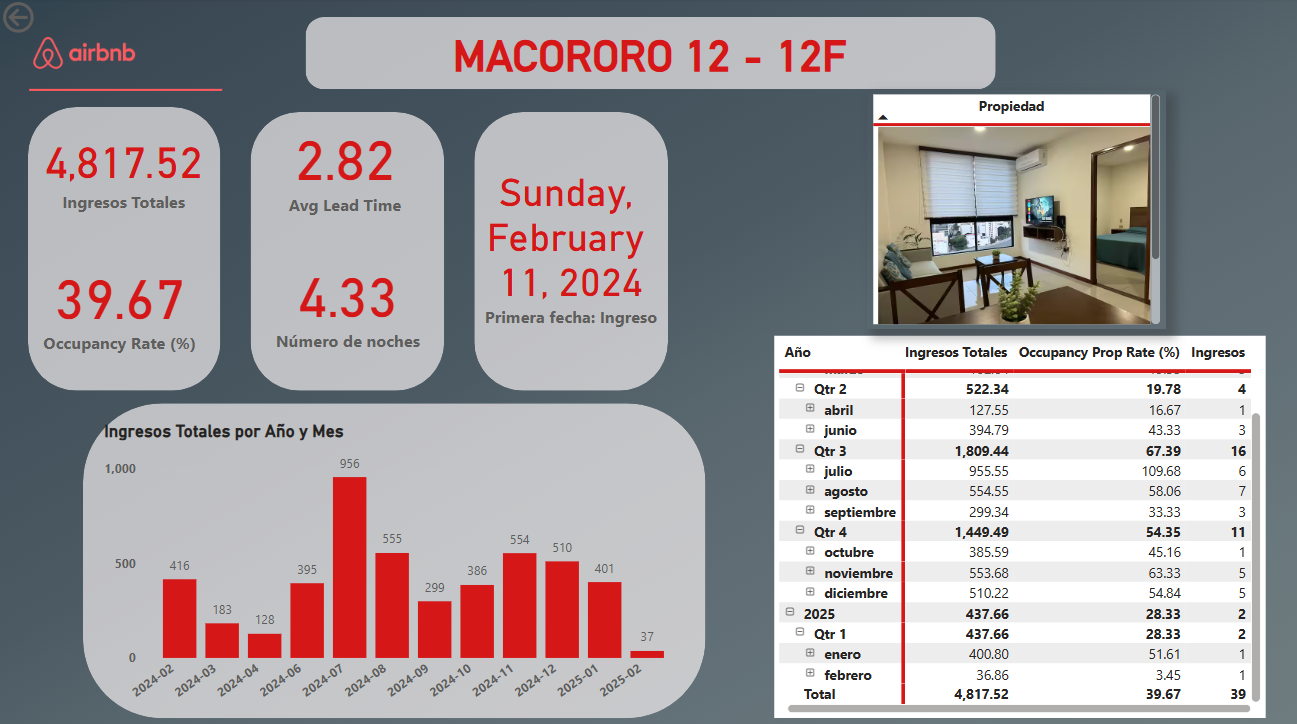

The dashboard page shown, as its layout file describes it:
{"tool":"powerbi","page":{"name":"Detalle por Propiedad","canvas":[1280,720],"ordinal":2},"visuals":[{"type":"image","box":[10,5,150,100],"z":0},{"type":"shape","box":[29.4,108,189,278.5],"z":1000},{"type":"shape","box":[30.2,75.5,189.4,30.2],"z":2000},{"type":"card","fields":{"Values":["Sum(cleaned_DataFrame.Ingresos Totales)"]},"box":[1.2,87.1,246.6,146],"z":3000},{"type":"shape","box":[83.4,398.8,611,309.2],"z":4000},{"type":"clusteredColumnChart","title":"Ingresos Totales por Año y Mes","fields":{"Category":["DateTable.YearMonth"],"Y":["Sum(cleaned_DataFrame.Ingresos Totales)"]},"box":[99.4,416,576.7,292],"z":5000},{"type":"shape","box":[247.9,112.9,190.2,273.6],"z":6000},{"type":"shape","box":[467.5,112.9,190.2,273.6],"z":7000},{"type":"actionButton","box":[0,0,100,40],"z":8000},{"type":"card","fields":{"Values":["MeasuresTable.Occupancy Prop Rate (%)"]},"box":[18.4,268.7,200,115.3],"z":9000},{"type":"card","fields":{"Values":["Avg(occupancy_leading_by_property.Avg Lead Time per Property)"]},"box":[218.4,97.4,244.9,136.3],"z":10000},{"type":"card","fields":{"Values":["Min(cleaned_DataFrame.Ingreso)"]},"box":[458.9,112.9,207.4,257.7],"z":11000},{"type":"pivotTable","fields":{"Values":["Sum(cleaned_DataFrame.Ingresos Totales)","Sum(cleaned_BOB_df.Ingresos Totales BOB)","MeasuresTable.Occupancy Prop Rate (%)","Count(cleaned_DataFrame.Ingreso)"],"Rows":["DateTable.Date.Variación.Jerarquía de fechas.Año","DateTable.Date.Variación.Jerarquía de fechas.Trimestre","DateTable.Date.Variación.Jerarquía de fechas.Mes","DateTable.Date.Variación.Jerarquía de fechas.Día"]},"box":[762,332.5,482.2,375.5],"z":13000},{"type":"card","fields":{"Values":["Avg(cleaned_DataFrame.Número de noches)"]},"box":[263.8,223.3,159.5,152.1],"z":14000},{"type":"shape","box":[301.9,19.5,677.6,71],"z":15000},{"type":"card","fields":{"Values":["MeasuresTable.Dynamic Drillthrough Title"]},"box":[301.8,0,677.3,108],"z":16000},{"type":"tableEx","fields":{"Values":["Property_Images.Image Link"]},"box":[852.8,90.8,293.3,235.6],"z":18000},{"type":"card","fields":{"Values":["Sum(cleaned_BOB_df.Ingresos Totales BOB)"]},"box":[8.6,174.2,231.9,147.2],"z":18001}]}

Visuals, with their boxes in screenshot pixels (x1, y1, x2, y2), scaled from the page's 1280x720 canvas onto the 1297x724 screenshot:
image: <bbox>10, 5, 162, 106</bbox>
shape: <bbox>30, 109, 221, 389</bbox>
shape: <bbox>31, 76, 223, 106</bbox>
card - Sum(cleaned_DataFrame.Ingresos Totales): <bbox>1, 88, 251, 234</bbox>
shape: <bbox>85, 401, 704, 712</bbox>
"Ingresos Totales por Año y Mes" clusteredColumnChart: <bbox>101, 418, 685, 712</bbox>
shape: <bbox>251, 114, 444, 389</bbox>
shape: <bbox>474, 114, 666, 389</bbox>
actionButton: <bbox>0, 0, 101, 40</bbox>
card - MeasuresTable.Occupancy Prop Rate (%): <bbox>19, 270, 221, 386</bbox>
card - Avg(occupancy_leading_by_property.Avg Lead Time per Property): <bbox>221, 98, 469, 235</bbox>
card - Min(cleaned_DataFrame.Ingreso): <bbox>465, 114, 675, 373</bbox>
pivotTable - Sum(cleaned_DataFrame.Ingresos Totales) x Sum(cleaned_BOB_df.Ingresos Totales BOB): <bbox>772, 334, 1261, 712</bbox>
card - Avg(cleaned_DataFrame.Número de noches): <bbox>267, 225, 429, 377</bbox>
shape: <bbox>306, 20, 993, 91</bbox>
card - MeasuresTable.Dynamic Drillthrough Title: <bbox>306, 0, 992, 109</bbox>
tableEx - Property_Images.Image Link: <bbox>864, 91, 1161, 328</bbox>
card - Sum(cleaned_BOB_df.Ingresos Totales BOB): <bbox>9, 175, 244, 323</bbox>
